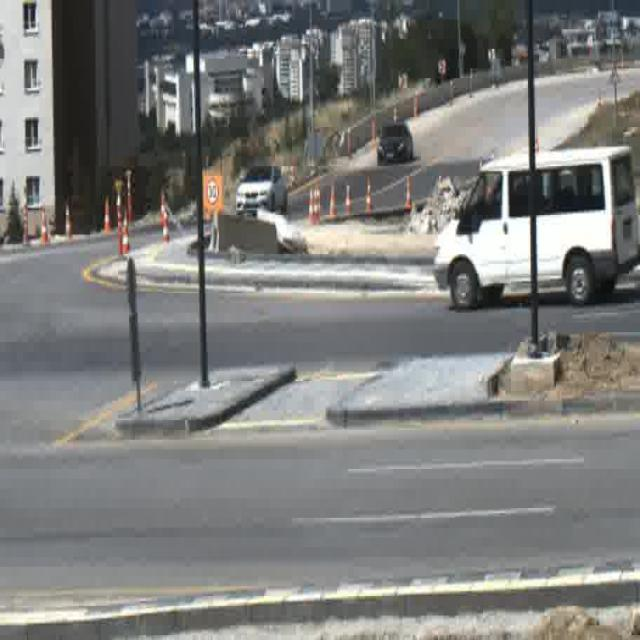Car: (435, 143, 638, 306), (236, 164, 287, 222), (376, 125, 413, 166)
